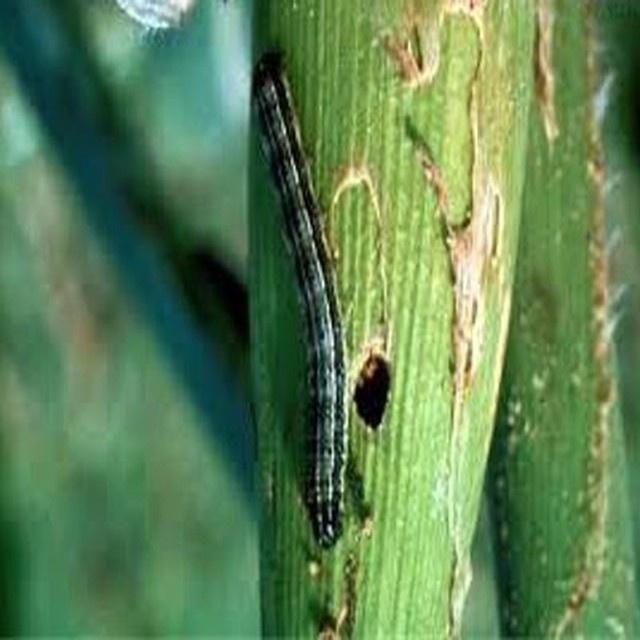gusano_cogollero: (246, 51, 356, 546)
